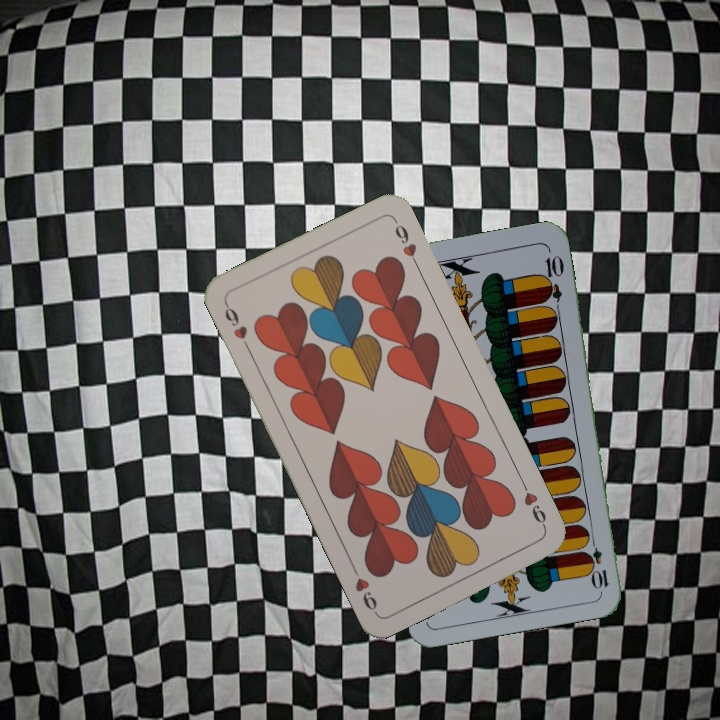E10: (585, 532, 611, 592)
H9: (220, 298, 253, 353), (517, 477, 550, 532)
